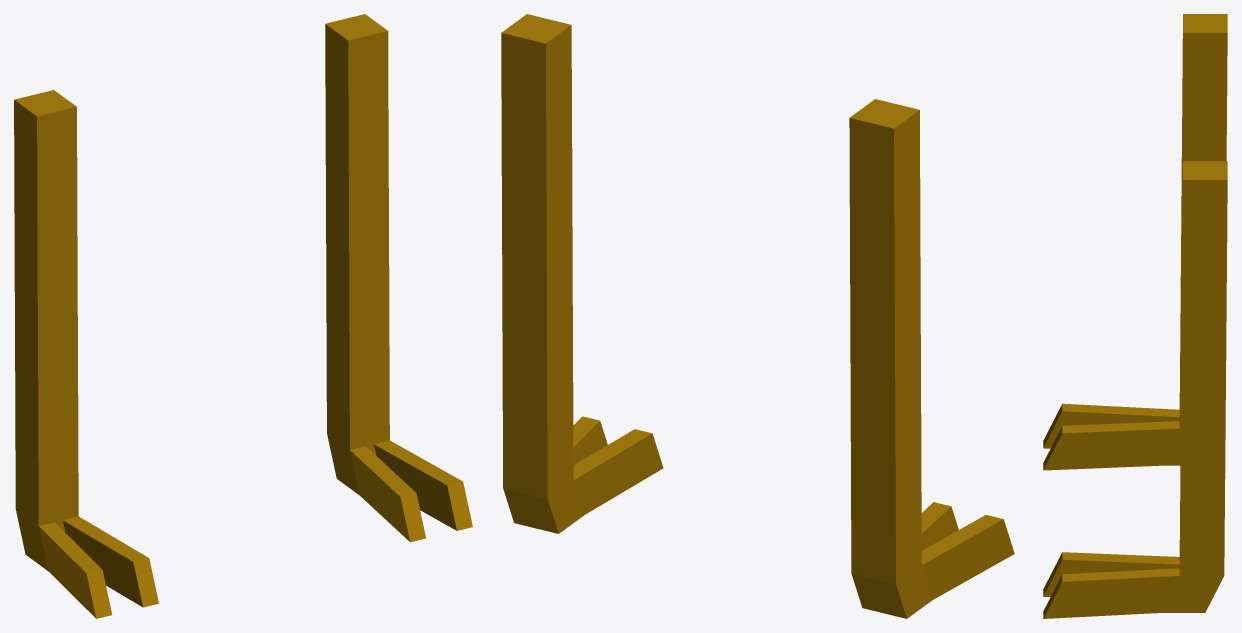
Rendered from Pinguino_patas (1).fbx.
The picture shows the model from 3 angles, left to right: view 1: azimuth 30°, elevation 25°; view 2: azimuth 150°, elevation 25°; view 3: azimuth 270°, elevation 25°; orthographic projection. The views are drawn at different scales.
Visible parts, largest first — view 1: Pengu_Patas; view 2: Pengu_Patas; view 3: Pengu_Patas.
Boxes of the visible parts, x1,y1,x2,y2 form: Pengu_Patas: (14,14,472,618); Pengu_Patas: (501,14,1014,618); Pengu_Patas: (1043,14,1227,618).
Bounding box in the file's own units: 2.25 × 2.55 × 0.9831.
